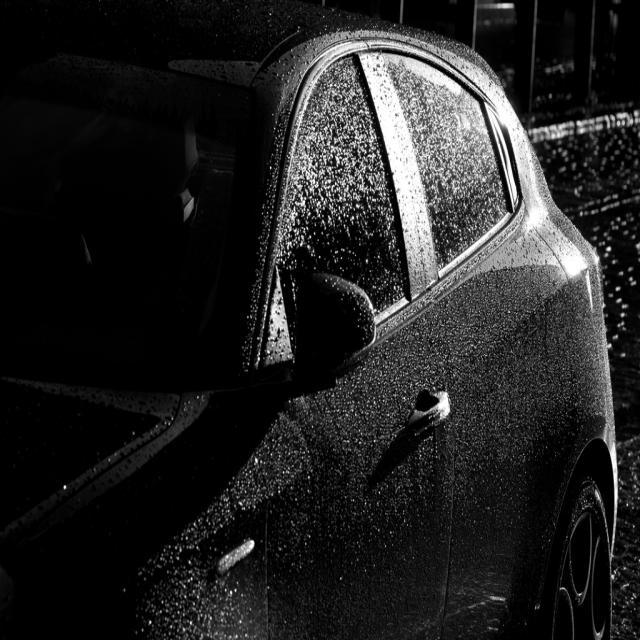car: (36, 9, 617, 625)
